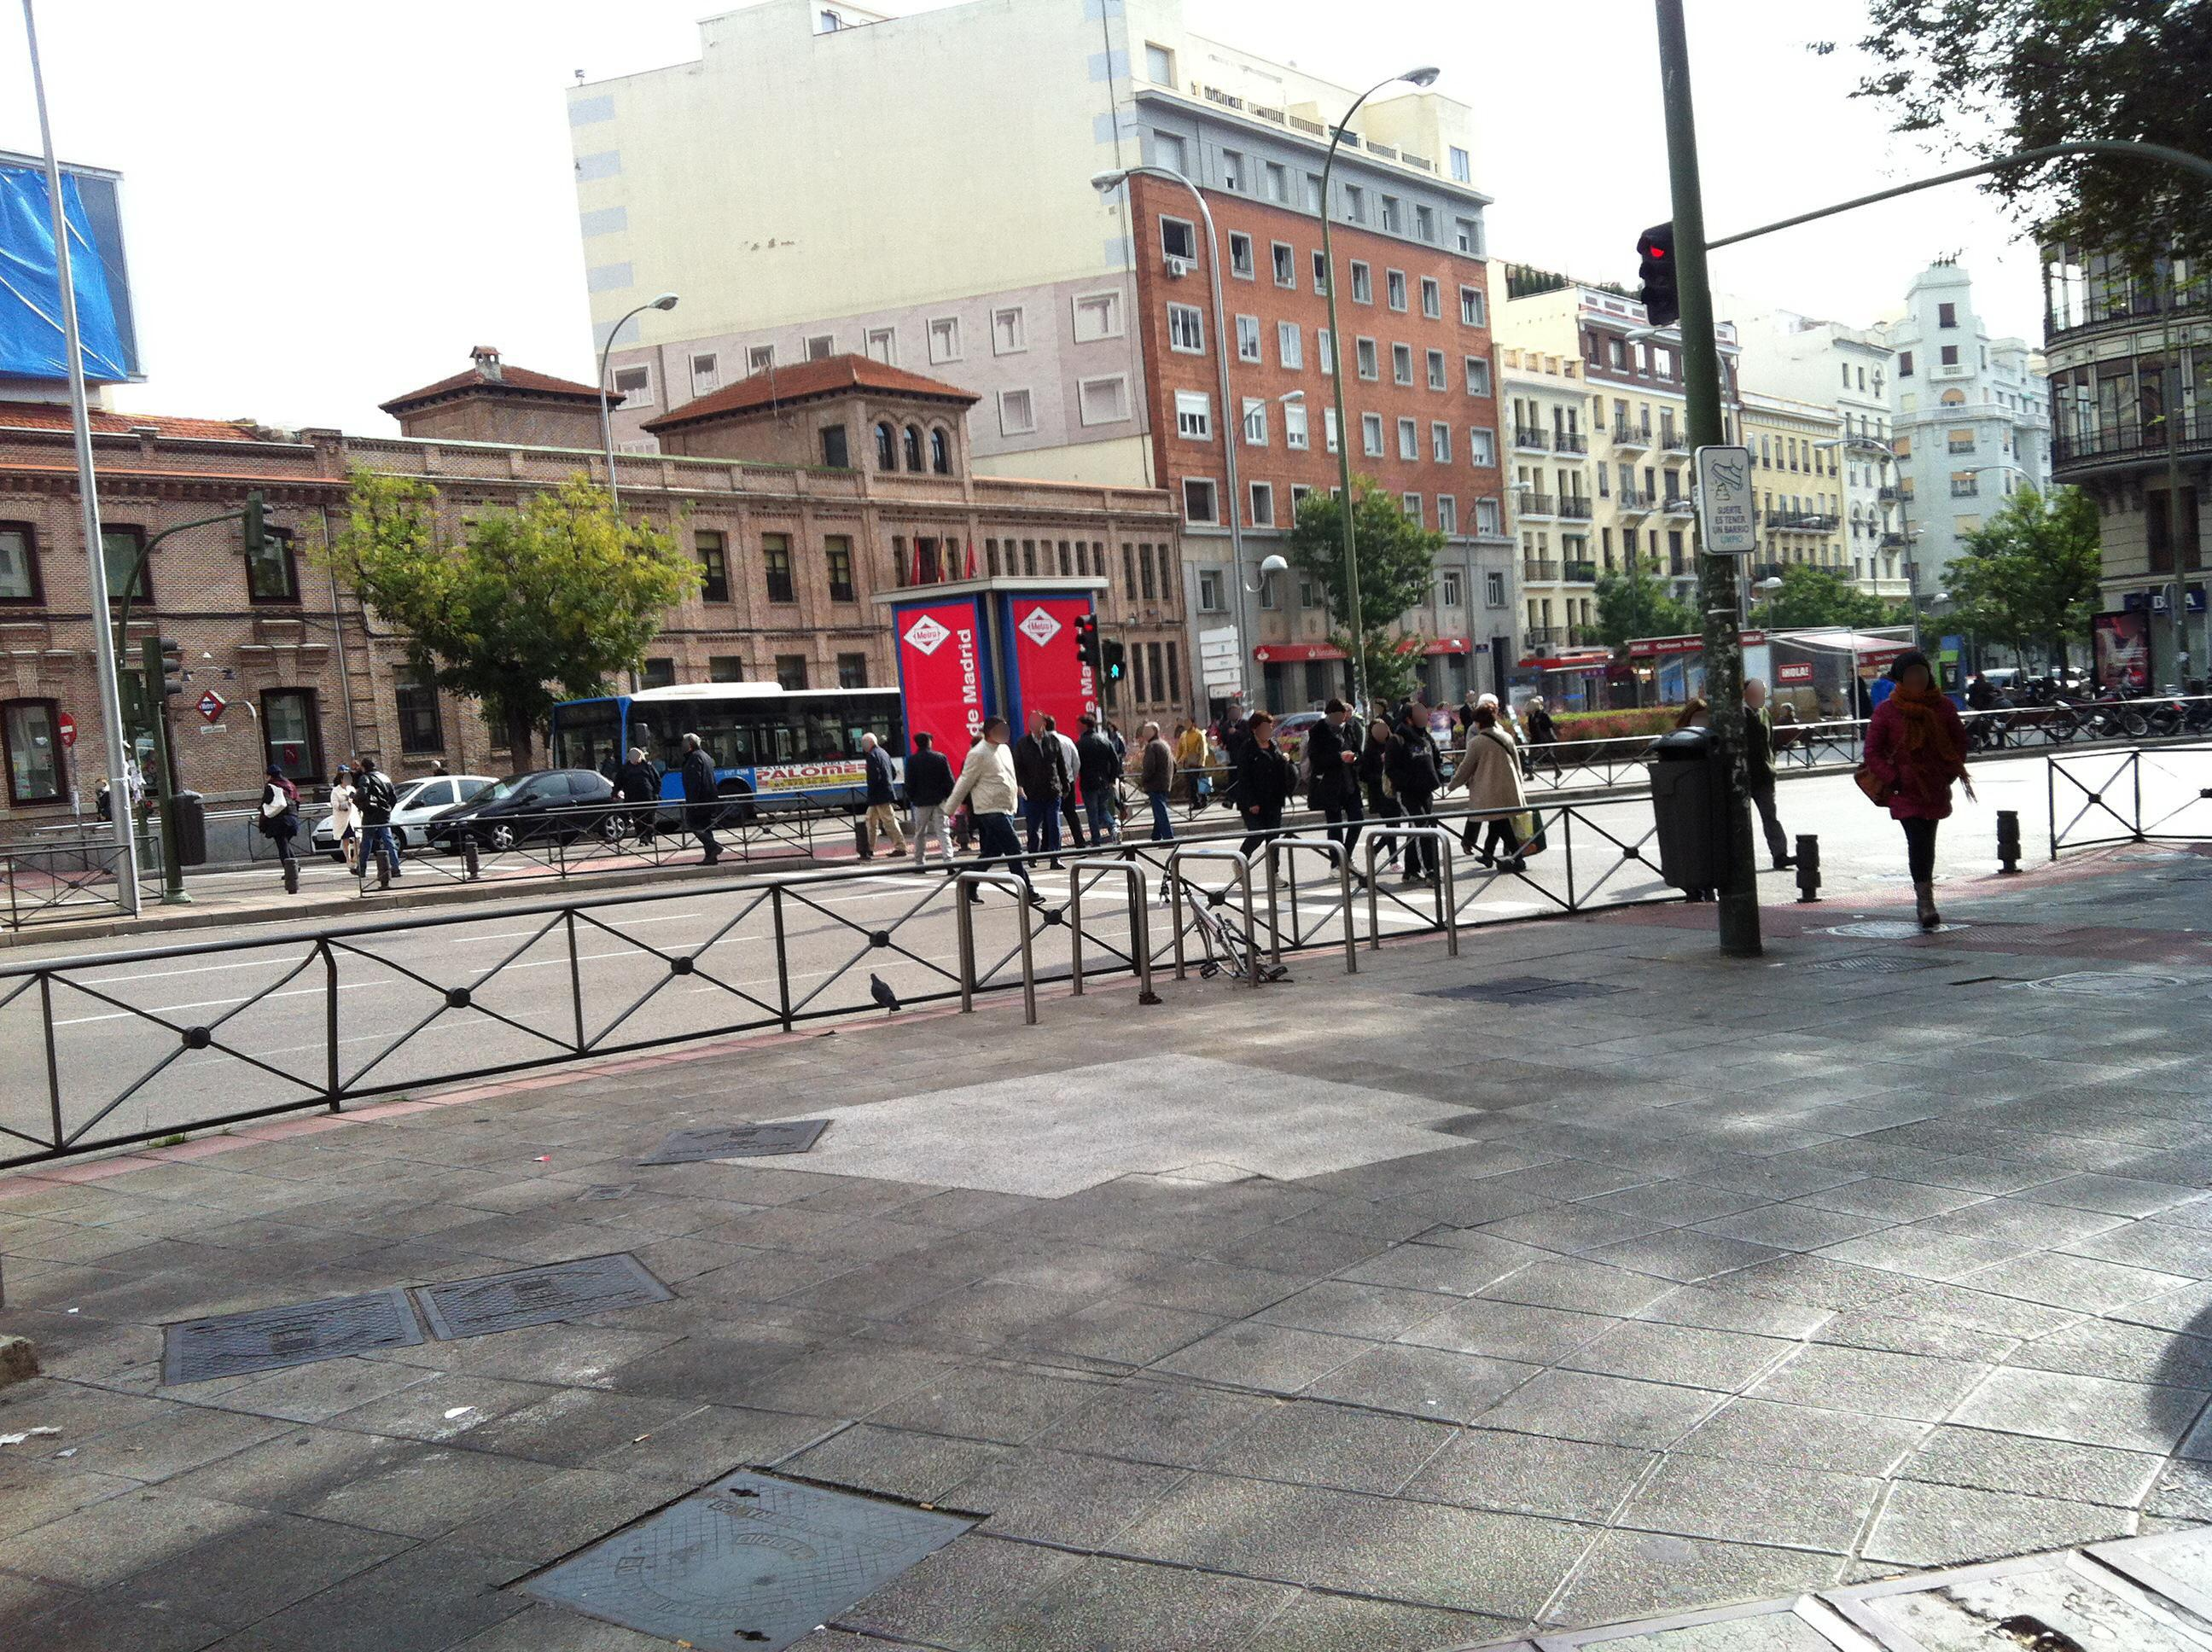vinyl banner: (2, 158, 132, 396), (751, 764, 909, 795)
